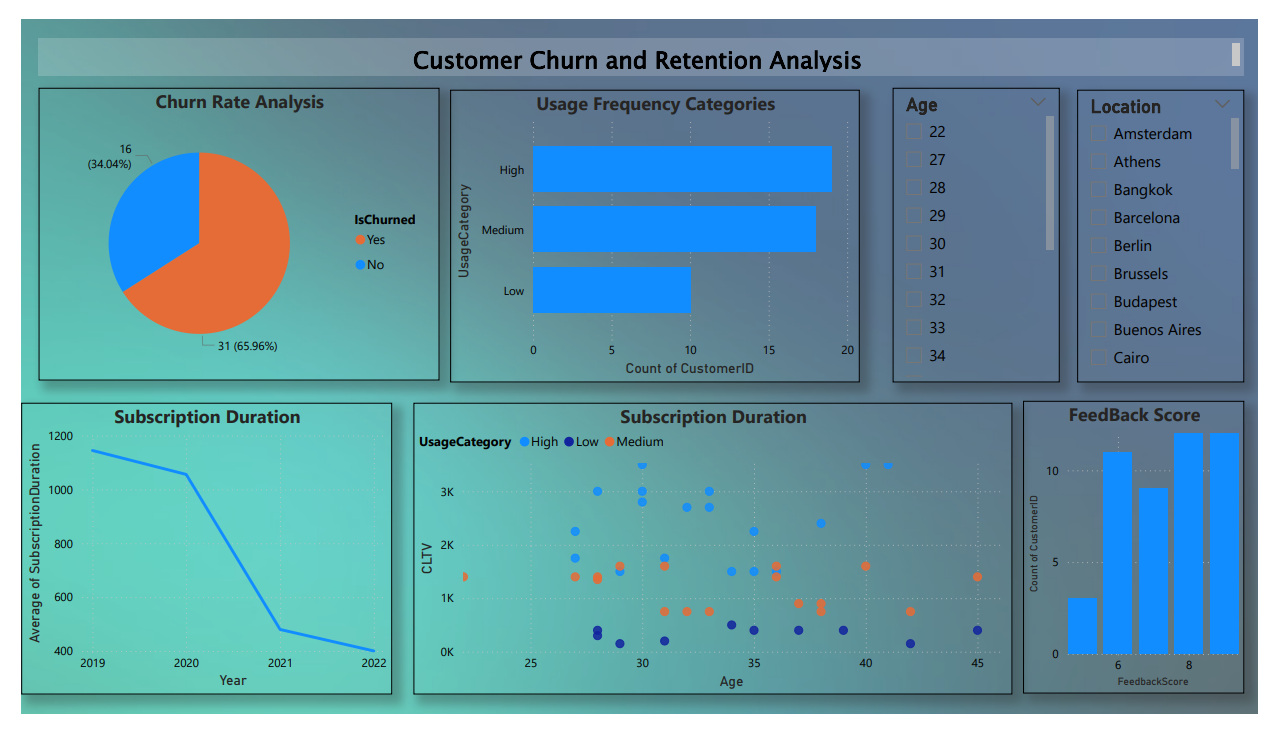

This screenshot's page, from the dashboard's own definition file:
{"tool":"powerbi","page":{"name":"Page 1","canvas":[1280,720],"ordinal":0},"visuals":[{"type":"pieChart","title":"Churn Rate Analysis","fields":{"Category":["Project2.IsChurned"],"Y":["CountNonNull(Project2.CustomerID)"]},"box":[18.2,71.2,414.7,303],"z":0},{"type":"clusteredBarChart","title":"Usage Frequency Categories","fields":{"Category":["Project2.UsageCategory"],"Y":["CountNonNull(Project2.CustomerID)"]},"box":[444,72.6,424.4,303],"z":1000},{"type":"lineChart","title":"Subscription Duration","fields":{"Category":["Project2.StartDate.Variation.Date Hierarchy.Year","Project2.StartDate.Variation.Date Hierarchy.Quarter","Project2.StartDate.Variation.Date Hierarchy.Month","Project2.StartDate.Variation.Date Hierarchy.Day"],"Y":["Avg(Project2.SubscriptionDuration)"]},"box":[0,396.5,383.9,303],"z":2000},{"type":"scatterChart","title":"Subscription Duration","fields":{"Y":["Project2.CLTV"],"Series":["Project2.UsageCategory"],"X":["Project2.Age","Project2.CustomerID"]},"box":[406.3,396.5,619.9,303],"z":2001},{"type":"columnChart","title":"FeedBack Score","fields":{"Category":["Project2.FeedbackScore"],"Y":["CountNonNull(Project2.CustomerID)"]},"box":[1037.4,395.1,229,303],"z":2002},{"type":"slicer","title":"Subscription Duration","fields":{"Values":["Project2.Location"]},"box":[1093.2,72.6,173.1,303],"z":2003},{"type":"slicer","title":"Subscription Duration","fields":{"Values":["Project2.Age"]},"box":[901.9,71.2,173.1,304.4],"z":2004},{"type":"textbox","box":[18.2,19.5,1248.2,39.1],"z":2005}]}

Visuals, with their boxes in screenshot pixels (x1, y1, x2, y2), scaled from the page's 1280x720 canvas onto the 1281x735 screenshot:
"Churn Rate Analysis" pieChart: BBox(18, 73, 433, 382)
"Usage Frequency Categories" clusteredBarChart: BBox(444, 74, 869, 383)
"Subscription Duration" lineChart: BBox(0, 405, 384, 714)
"Subscription Duration" scatterChart: BBox(407, 405, 1027, 714)
"FeedBack Score" columnChart: BBox(1038, 403, 1267, 713)
"Subscription Duration" slicer: BBox(1094, 74, 1267, 383)
"Subscription Duration" slicer: BBox(903, 73, 1076, 383)
textbox: BBox(18, 20, 1267, 60)
